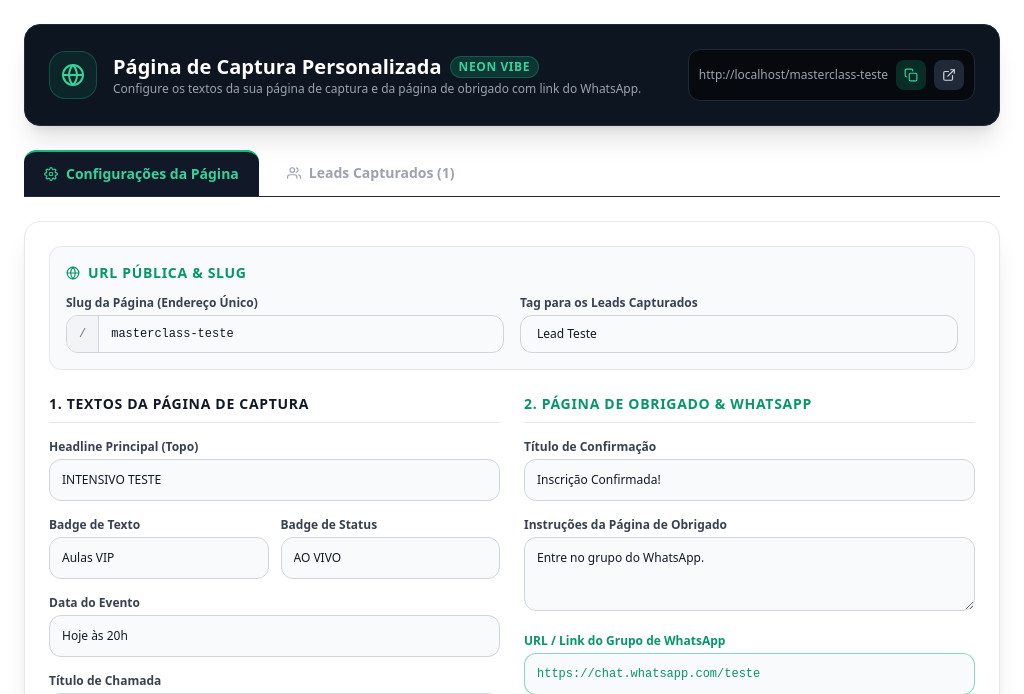
Test: CapturePageAdmin › permite alternar para a aba de Leads Capturados e exibe os e-mails registrados
What coordinates should you click on to do the following:
click the button "Leads Capturados (1)"
I would click on:
 (371, 173)
Its box is [267,150,475,196].
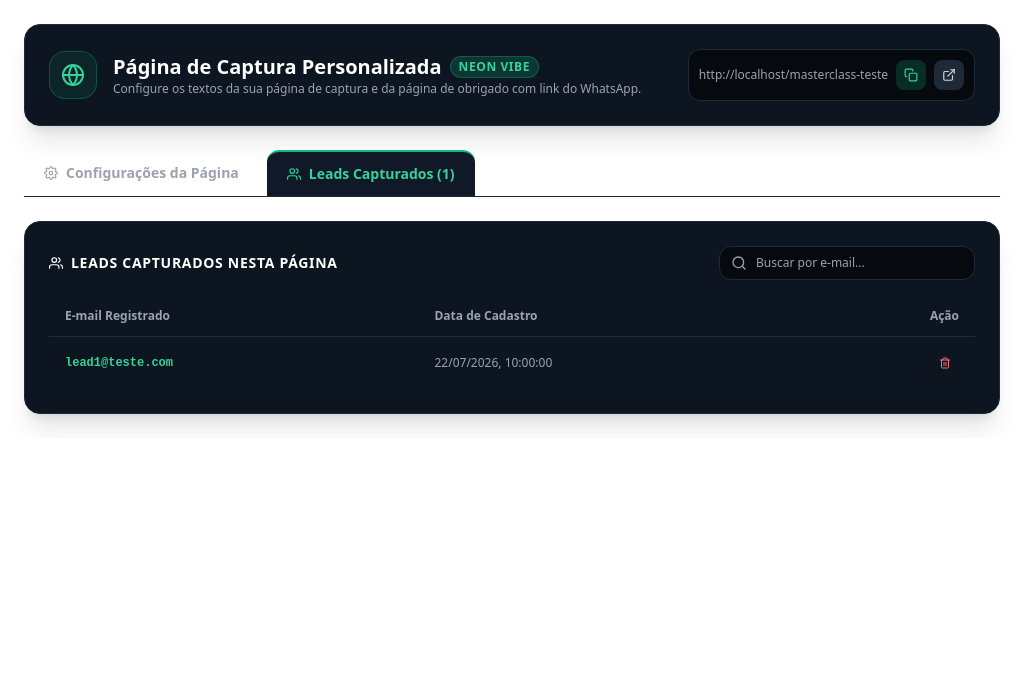
Now the text "lead1@teste.com" is shown, box [49,336,418,389]
